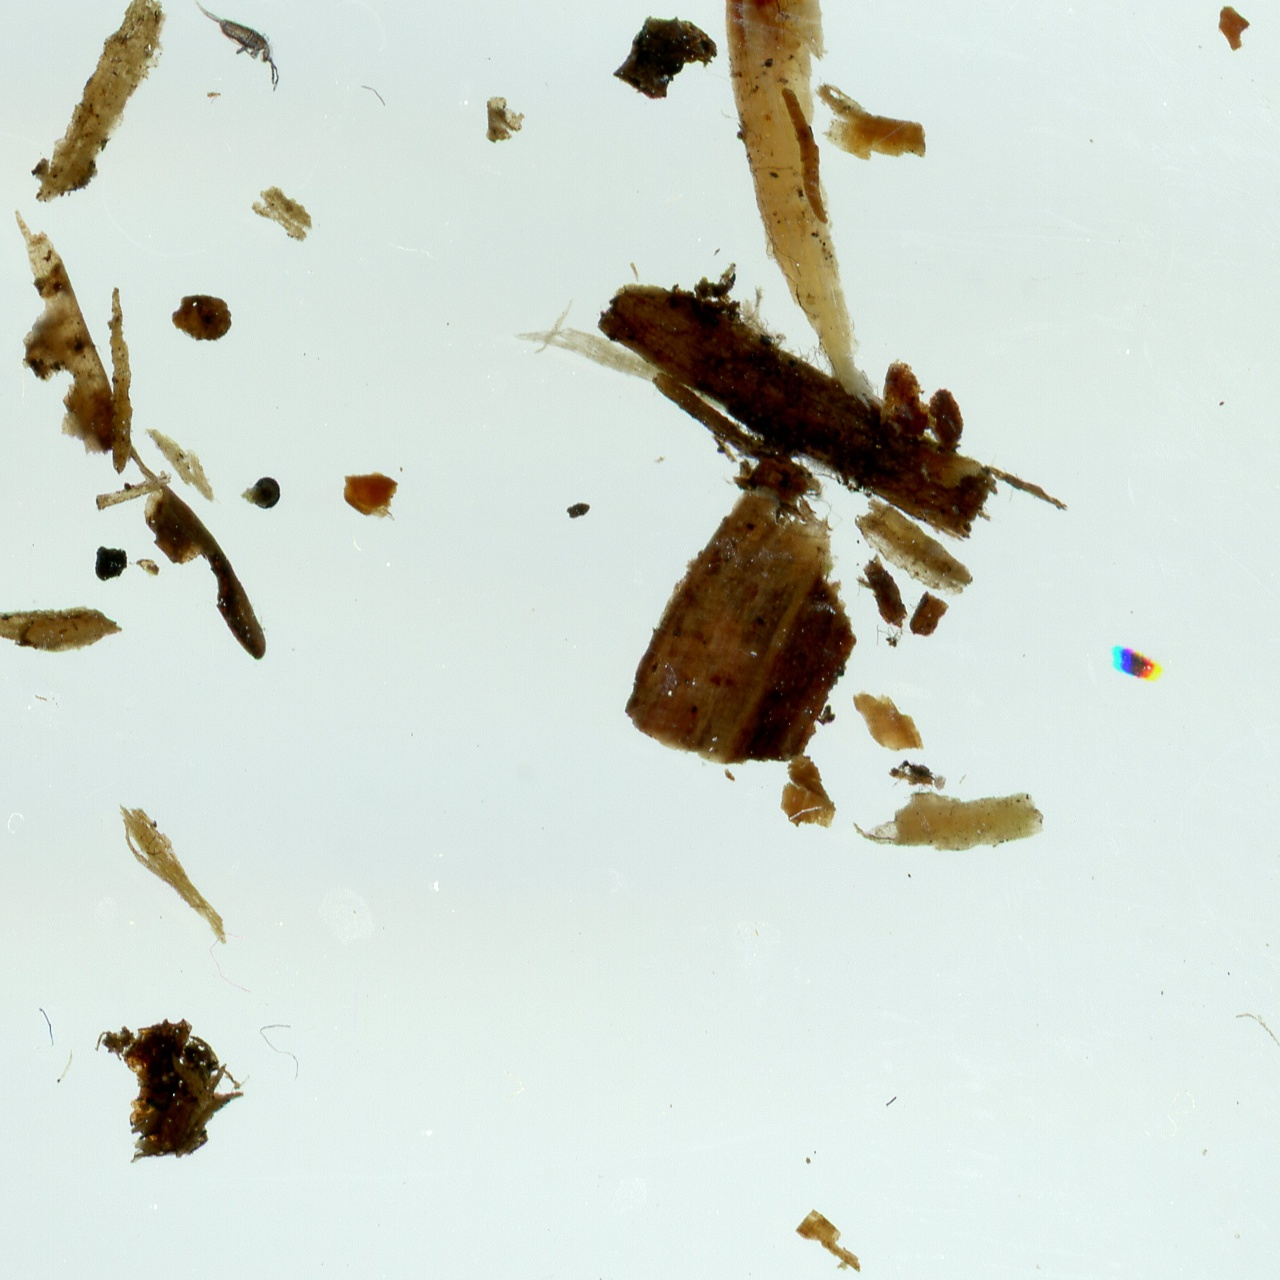arthropod: (190, 0, 282, 93)
